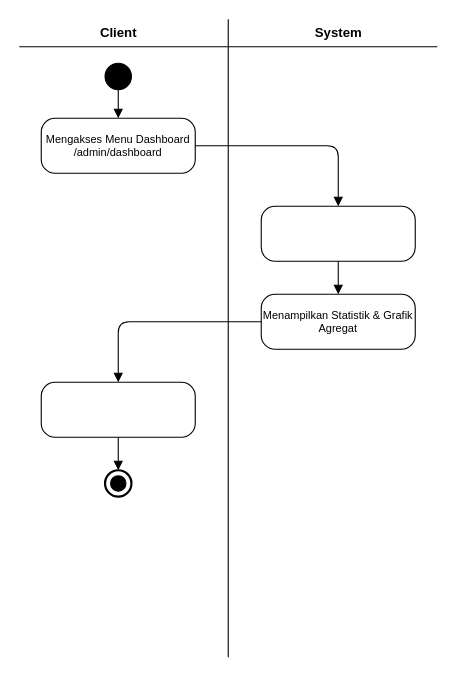
Some shapes in this 458 by 678 pixel diagram are drawn without their labels. The shapes that lost their labels are listed below. From the top down, each one's box as (x1, y1, x2, y2) in pixels, then its label:
(260, 205, 415, 261): Menghitung Total Akun, Venue, & Transaksi
(40, 381, 195, 437): Melihat Metrik Kesehatan Platform
